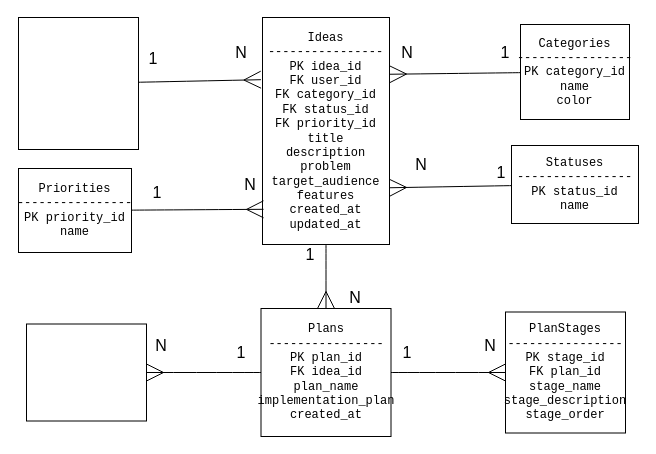
Some shapes in this 656 by 454 pixel diagram are drawn without their labels. Each missing label, with the centre of its shape:
"PlanGoals ---------------- PK goal_id FK plan_id goal_description" belongs at pixel 86 372.
"Users ---------------- PK user_id username email password_hash created_at" belongs at pixel 78 83.
